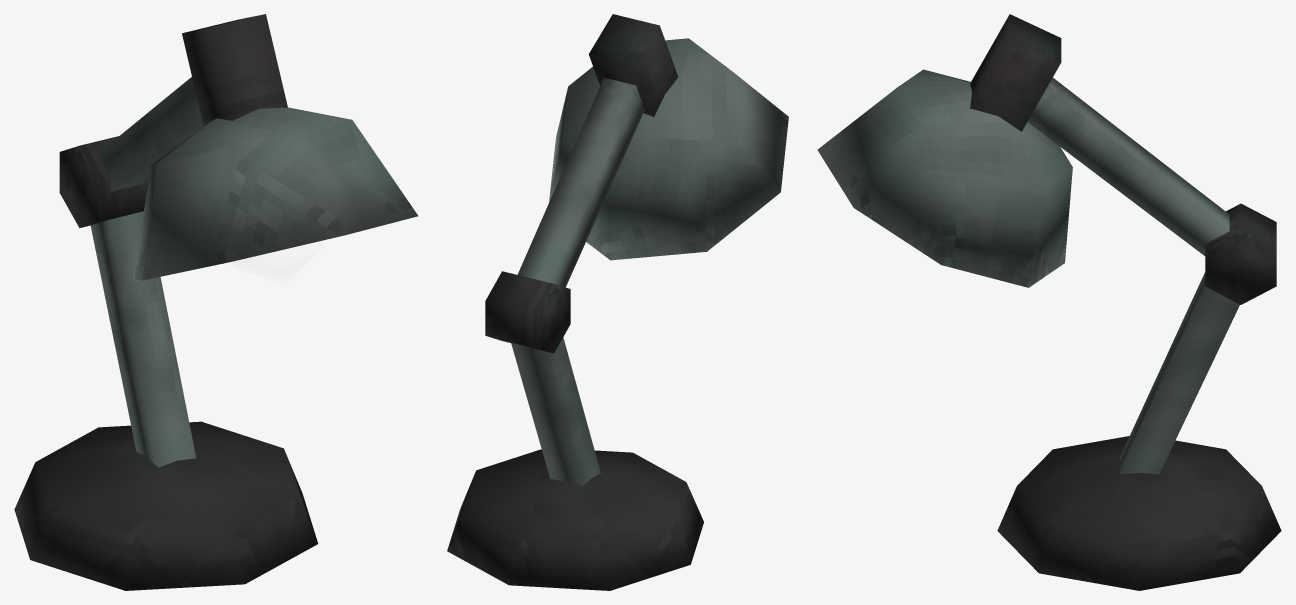
Rendered from Lamp.glb.
The picture shows the model from 3 angles, left to right: view 1: azimuth 30°, elevation 25°; view 2: azimuth 150°, elevation 25°; view 3: azimuth 270°, elevation 25°; orthographic projection. The views are drawn at different scales.
Visible parts, largest first — view 1: Lamp, Lamp.001; view 2: Lamp; view 3: Lamp.
Part boxes in pixels (<box>): Lamp: <box>14,14,418,590</box>; Lamp.001: <box>230,241,323,284</box>; Lamp: <box>447,14,788,590</box>; Lamp: <box>817,14,1281,590</box>.
Bounding box in the file's own units: 0.2636 × 0.5162 × 0.4304.
2 materials, 1 textured.
